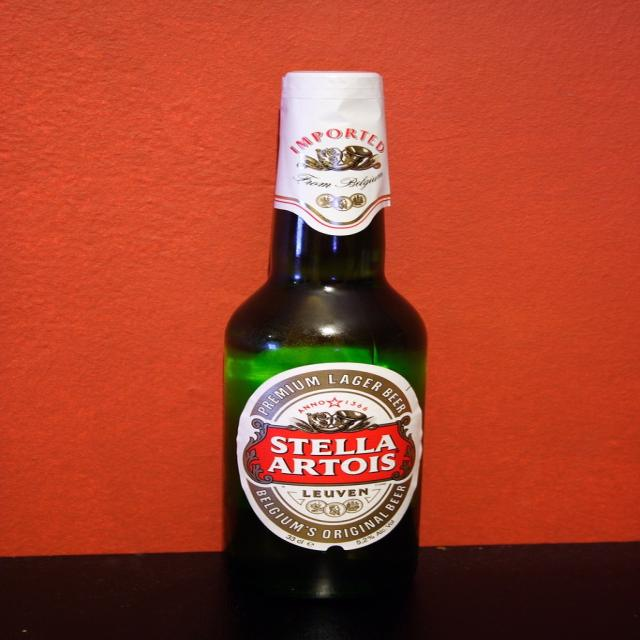stellaartois: (244, 370, 415, 545)
